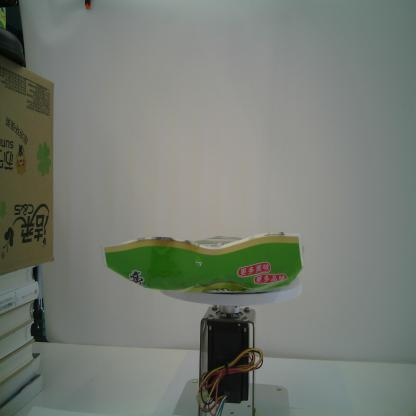Dried Food: (99, 227, 307, 298)
